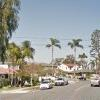Tree: (34, 22, 100, 66)
